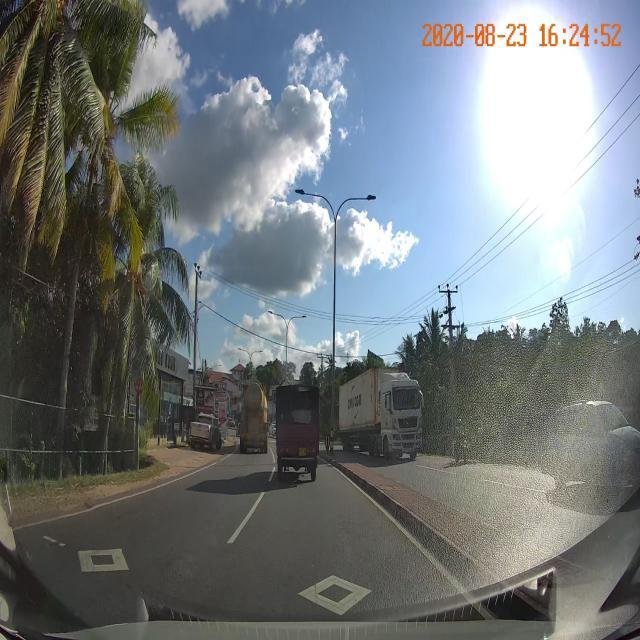diamond: (158, 545, 498, 619)
